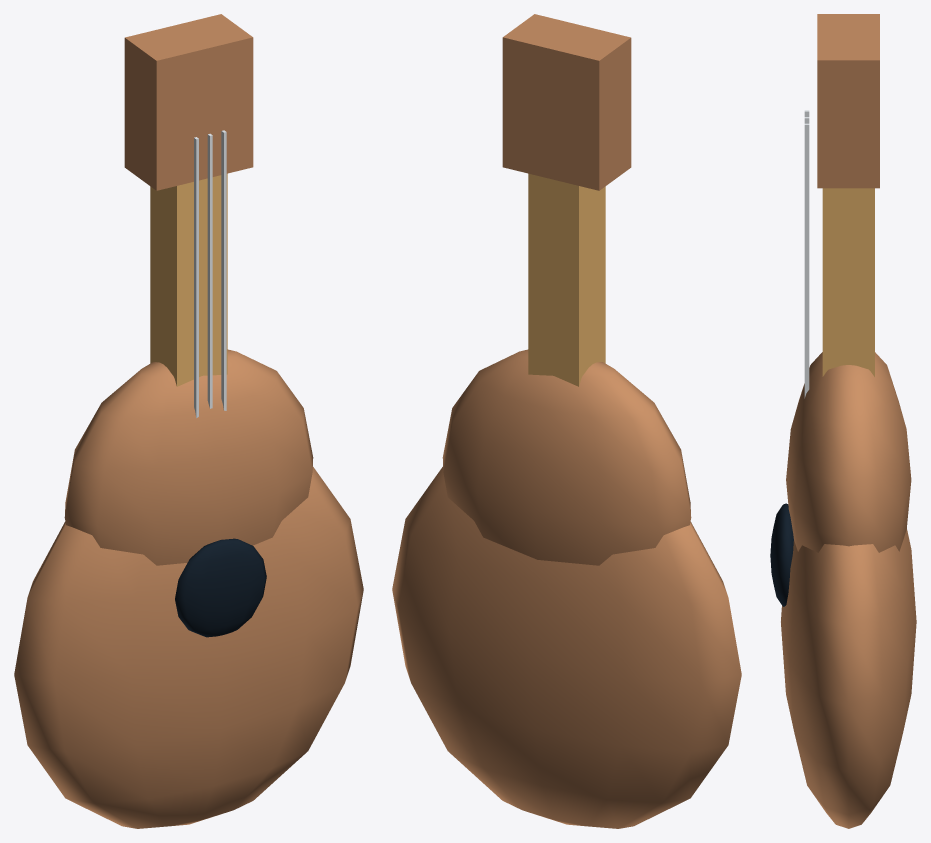
The model's file is item-guitar.glb.
The picture shows the model from 3 angles, left to right: view 1: azimuth 30°, elevation 25°; view 2: azimuth 150°, elevation 25°; view 3: azimuth 270°, elevation 25°; orthographic projection.
Parts seen in each view (by area): view 1: guitar-body, upper-body, headstock, neck, sound-hole, string (×3); view 2: guitar-body, upper-body, headstock, neck; view 3: guitar-body, upper-body, headstock, neck, sound-hole, string.
Boxes of the visible parts, bbox=[...] form: guitar-body: bbox=[14, 466, 363, 828]; upper-body: bbox=[64, 349, 313, 565]; headstock: bbox=[124, 14, 253, 190]; neck: bbox=[150, 173, 227, 386]; sound-hole: bbox=[175, 538, 266, 637]; string (×3): bbox=[194, 130, 226, 417]; guitar-body: bbox=[392, 466, 741, 828]; upper-body: bbox=[442, 349, 691, 565]; headstock: bbox=[502, 14, 631, 190]; neck: bbox=[528, 173, 605, 386]; guitar-body: bbox=[781, 529, 916, 828]; upper-body: bbox=[786, 352, 911, 552]; headstock: bbox=[817, 14, 879, 188]; neck: bbox=[822, 188, 874, 376]; sound-hole: bbox=[770, 503, 793, 606]; string: bbox=[804, 123, 809, 398].
Bounding box in the file's own units: 0.76 × 1.64 × 0.28.
